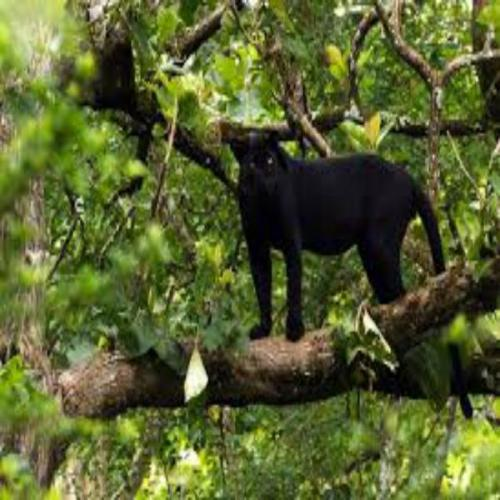panther-endangered: (223, 130, 444, 344)
